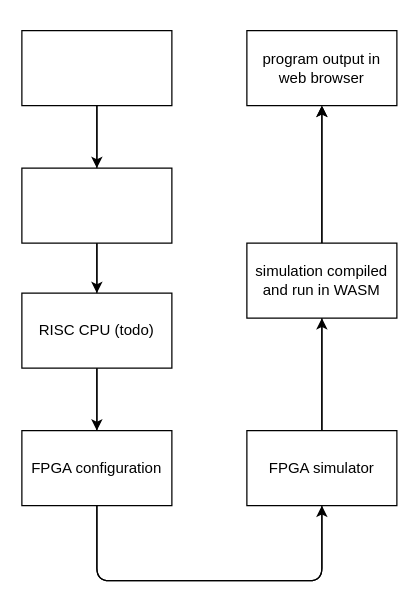
Some shapes in this 419 by 613 pixel diagram are drawn without their labels. The shapes that lost their labels are listed below. From the top down, each one's box as (x1, y1, x2, y2) in pixels, then its label:
(21, 29, 172, 106): demo program
(21, 167, 172, 243): custom OS (todo)
